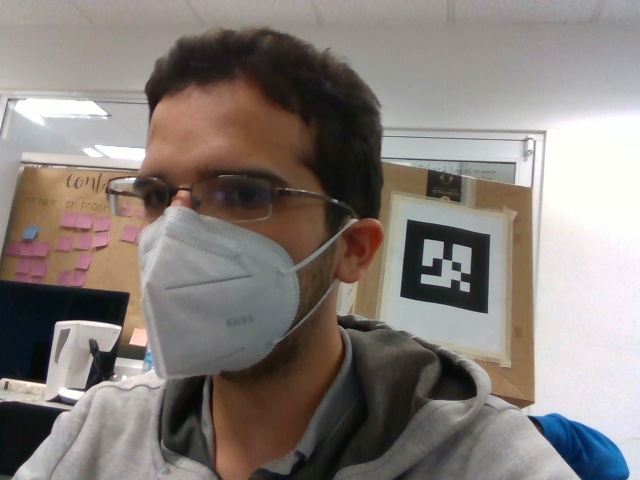ar2: (395, 219, 493, 317)
